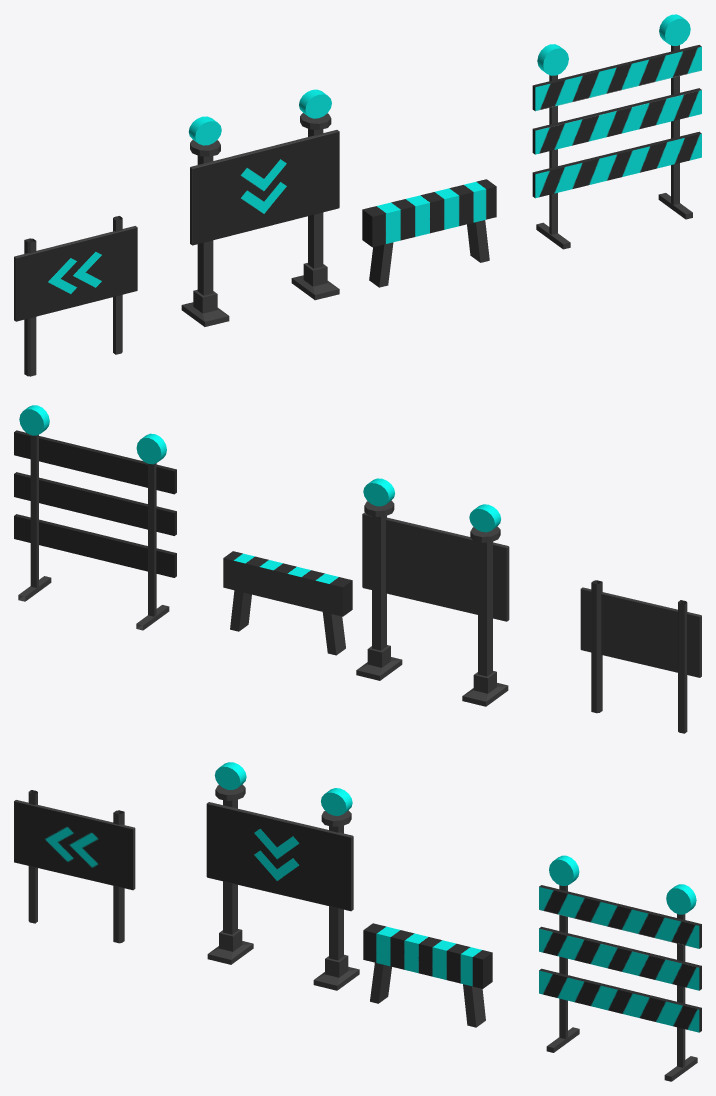
File: TheOPobstacles.fbx
3 views of the same model, one above another, from view 1: azimuth 30°, elevation 25°; view 2: azimuth 150°, elevation 25°; view 3: azimuth 330°, elevation 25° (orthographic). The views are drawn at different scales.
Visible parts, largest first — view 1: obs2, obs4, obs1, obs3; view 2: obs2, obs4, obs1, obs3; view 3: obs2, obs4, obs1, obs3.
Boxes of the visible parts, x1,y1,x2,y2 form: obs2: (181, 89, 339, 326); obs4: (532, 14, 701, 249); obs1: (14, 216, 137, 376); obs3: (362, 179, 496, 287); obs2: (356, 478, 509, 706); obs4: (14, 405, 176, 630); obs1: (580, 580, 701, 733); obs3: (223, 551, 352, 655); obs2: (206, 762, 359, 990); obs4: (539, 855, 701, 1081); obs1: (14, 790, 135, 943); obs3: (363, 923, 492, 1027).
Size of the model in its own units: 41.36 by 11.49 by 3.11.
1 material, 1 textured.
